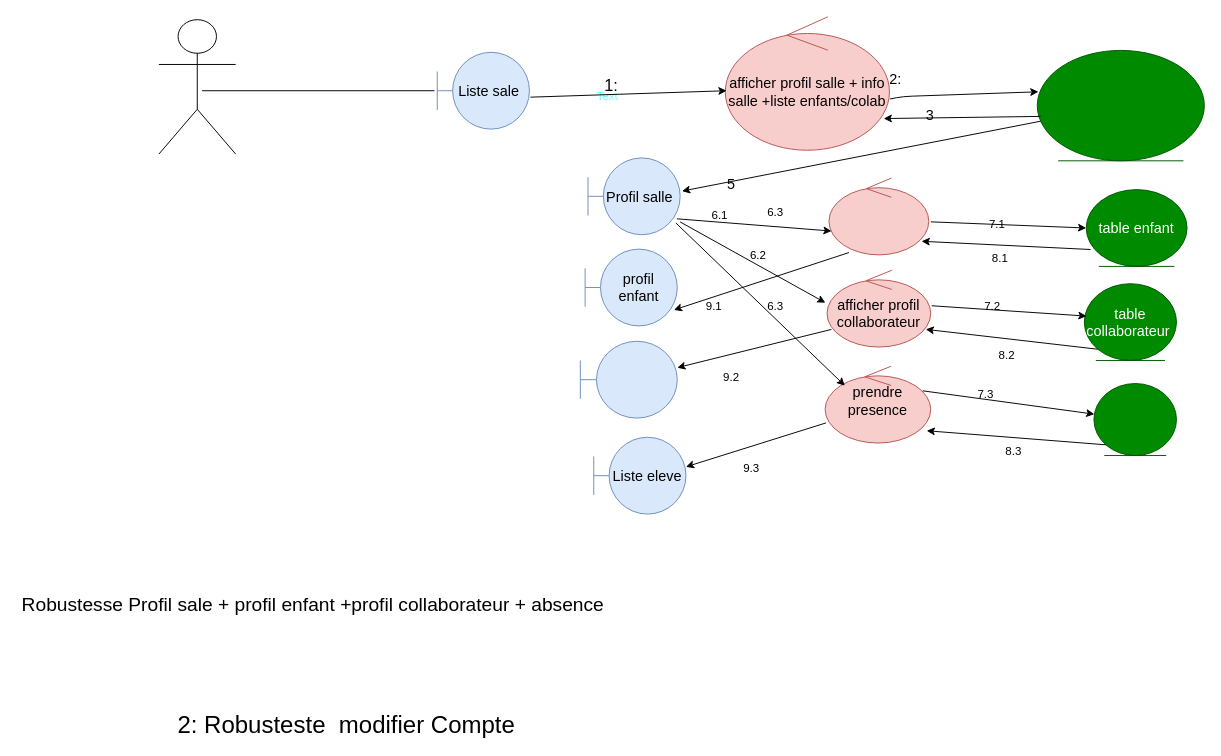
This 1221x756 diagram has some shape labels left out. Each missing label, with the box of its shape:
ADMIN: (158, 19, 236, 154)
afficher profil enfant: (828, 177, 929, 255)
Profil collab: (579, 340, 677, 418)
table modification horaire: (1093, 383, 1176, 456)
table salle+modif horaire+ Horaire: (1036, 49, 1204, 161)
